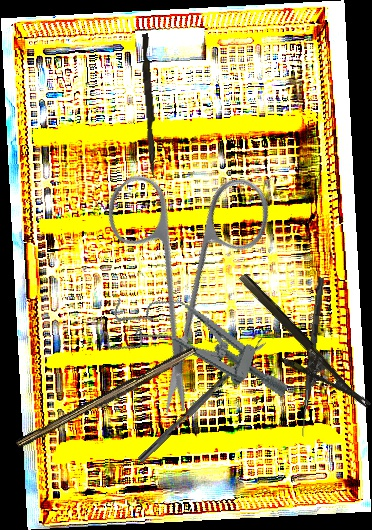Hook Surgical: (299, 277, 325, 437)
Iris Scissors: (33, 117, 338, 421)
Needle Holder: (220, 271, 372, 429)
Pusher: (138, 33, 161, 179)
Scalpel Handle: (15, 342, 199, 455)
Speculum: (97, 279, 303, 412)
Surgical Spoon: (137, 338, 268, 464)
